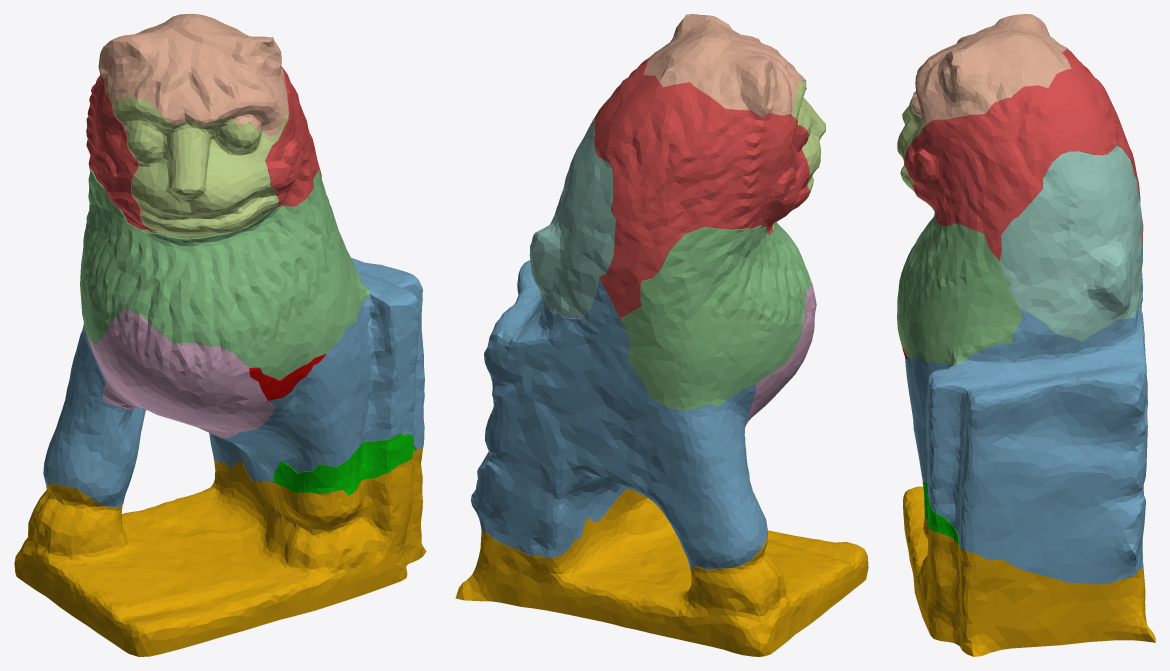
File: mode_16_10pcs.glb
3 views of the same model, side by side, from view 1: azimuth 30°, elevation 25°; view 2: azimuth 150°, elevation 25°; view 3: azimuth 270°, elevation 25° (orthographic). The views are drawn at different scales.
Visible parts, largest first — view 1: piece_0.obj, piece_3.obj, piece_2.obj, piece_7.obj, piece_5.obj, piece_6.obj, piece_1.obj, piece_8.obj, piece_9.obj; view 2: piece_2.obj, piece_0.obj, piece_1.obj, piece_3.obj, piece_4.obj, piece_7.obj, piece_6.obj, piece_5.obj; view 3: piece_2.obj, piece_1.obj, piece_4.obj, piece_0.obj, piece_3.obj, piece_7.obj, piece_5.obj, piece_8.obj.
Part boxes in pixels (<box>): piece_0.obj: <box>14,447,426,656</box>; piece_3.obj: <box>80,166,369,380</box>; piece_2.obj: <box>43,257,424,507</box>; piece_7.obj: <box>98,14,288,137</box>; piece_5.obj: <box>111,98,288,238</box>; piece_6.obj: <box>88,307,275,437</box>; piece_1.obj: <box>86,27,321,230</box>; piece_8.obj: <box>273,433,415,495</box>; piece_9.obj: <box>249,353,326,400</box>; piece_2.obj: <box>471,260,767,570</box>; piece_0.obj: <box>455,488,868,656</box>; piece_1.obj: <box>594,58,809,318</box>; piece_3.obj: <box>620,222,812,410</box>; piece_4.obj: <box>529,118,615,318</box>; piece_7.obj: <box>643,14,806,117</box>; piece_6.obj: <box>744,285,816,433</box>; piece_5.obj: <box>772,81,825,228</box>; piece_2.obj: <box>905,244,1147,584</box>; piece_1.obj: <box>904,48,1143,260</box>; piece_4.obj: <box>999,145,1142,341</box>; piece_0.obj: <box>903,486,1155,656</box>; piece_3.obj: <box>897,203,1022,365</box>; piece_7.obj: <box>910,14,1071,130</box>; piece_5.obj: <box>897,94,927,191</box>; piece_8.obj: <box>922,482,959,545</box>.
Size of the model in its own units: 0.6128 by 1 by 0.4443.
